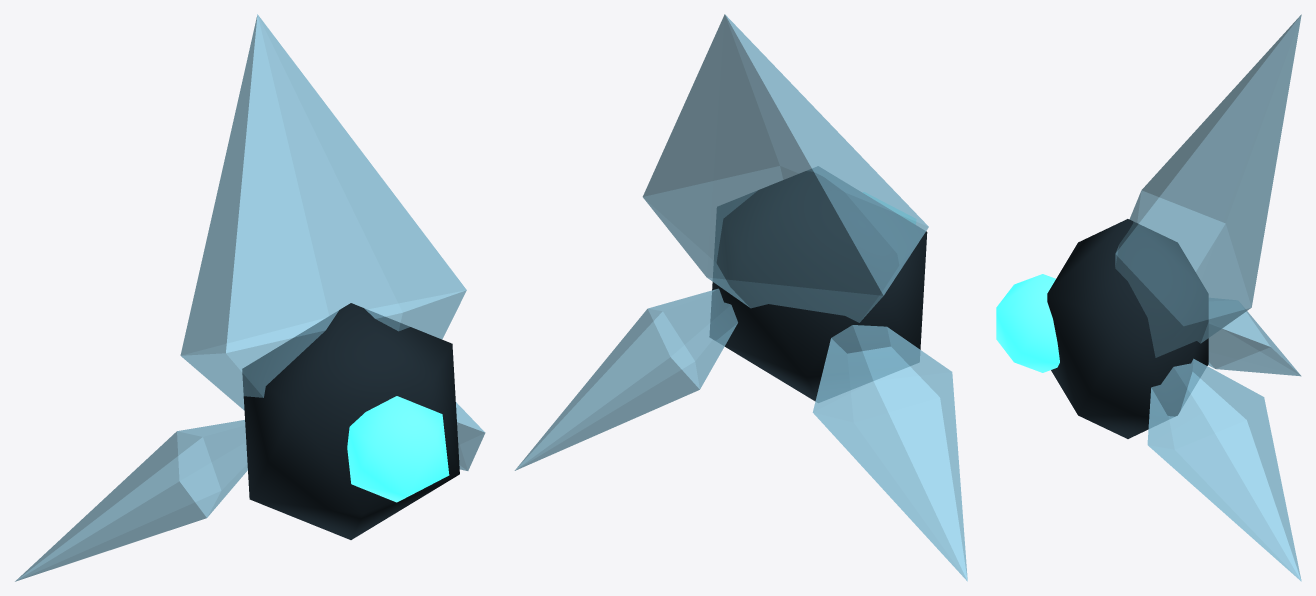
File: SwarmEnemy.glb
The picture shows the model from 3 angles, left to right: view 1: azimuth 30°, elevation 25°; view 2: azimuth 150°, elevation 25°; view 3: azimuth 270°, elevation 25°; orthographic projection. The views are drawn at different scales.
Visible parts, largest first — view 1: SwarmEnemy; view 2: SwarmEnemy; view 3: SwarmEnemy.
Boxes of the visible parts, x1,y1,x2,y2 form: SwarmEnemy: (15,14,485,581); SwarmEnemy: (514,14,967,581); SwarmEnemy: (996,14,1301,581).
Size of the model in its own units: 1.4 by 1.5 by 0.879.
